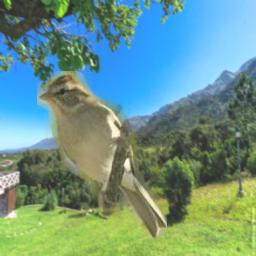Sparrow: (37, 71, 167, 239)
